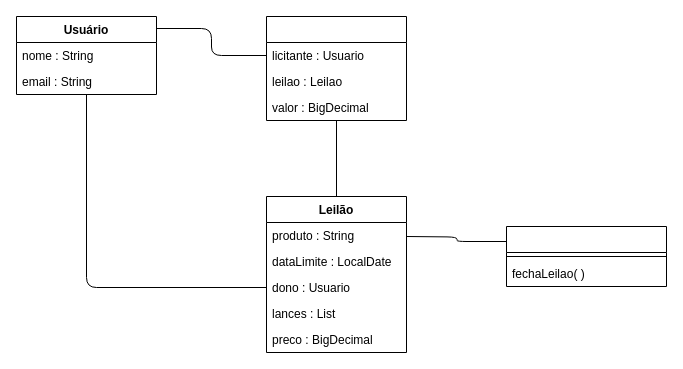
Some shapes in this 683 by 369 pixel diagram are drawn without their labels. Here are the shapes that lost their labels. From the top down, the box of each, then its label:
(266, 16, 406, 120): Lance
(506, 226, 666, 286): Job
